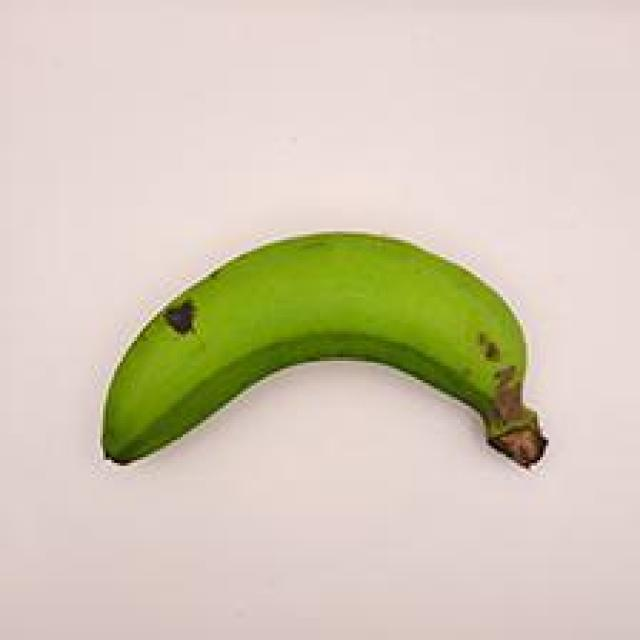Raw: (94, 208, 556, 515)
